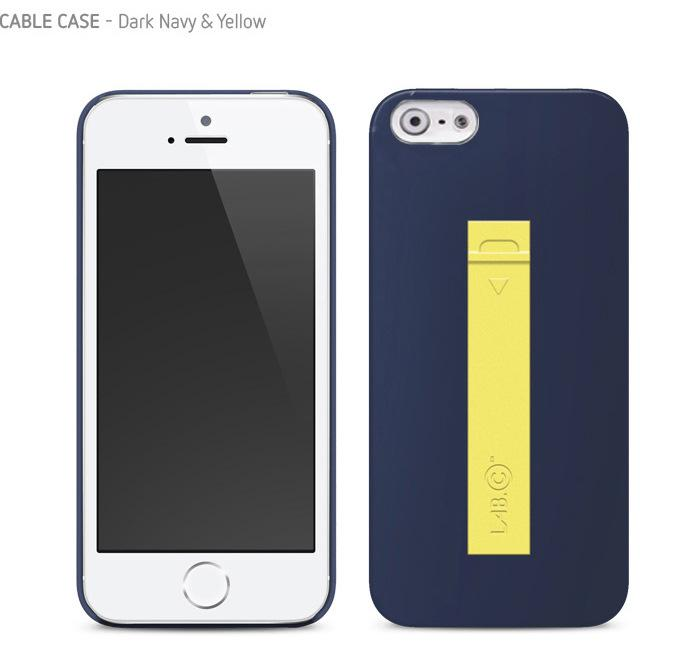phone: (367, 86, 627, 632), (75, 89, 338, 626)
